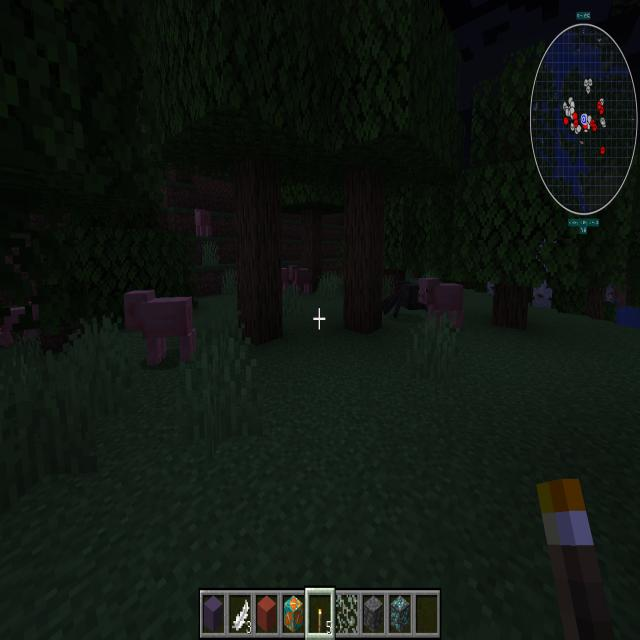Spider: (382, 268, 432, 336)
pig: (116, 277, 208, 373), (413, 272, 474, 344), (0, 284, 41, 364), (288, 258, 323, 309), (188, 200, 218, 243), (276, 256, 290, 299)
